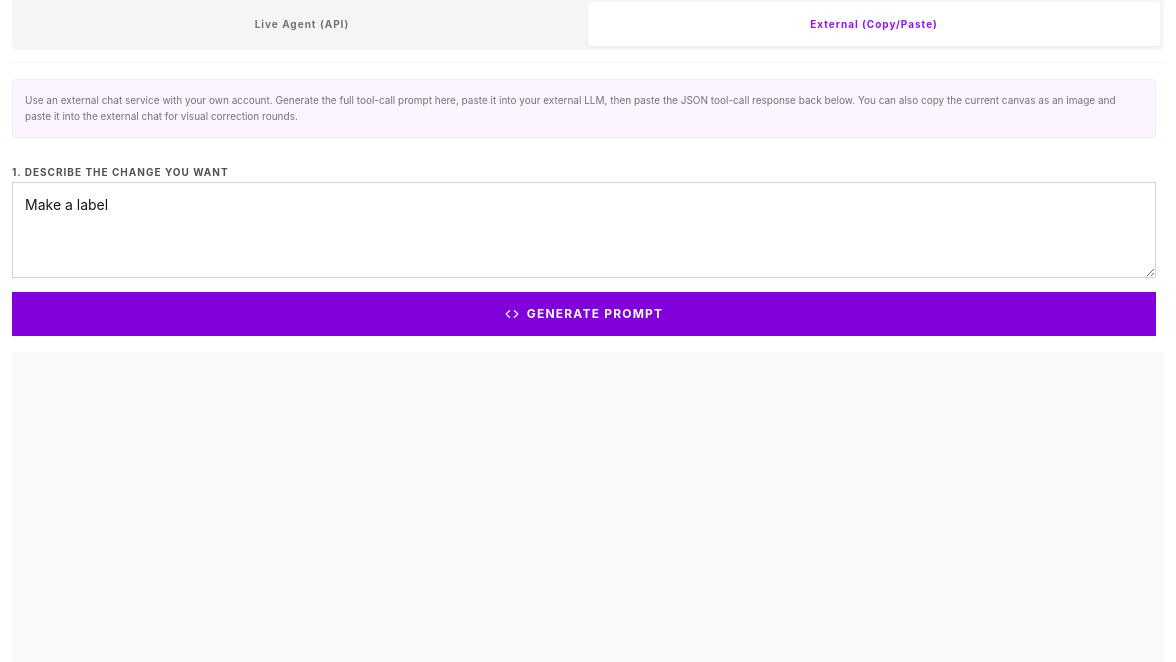
it: external prompts belong to the captured design and become unusable after an edit
The width and height of the screenshot is (1176, 662).
Click the button "Generate Prompt" at (584,314), box [12,292,1156,336]
(page scrolled)
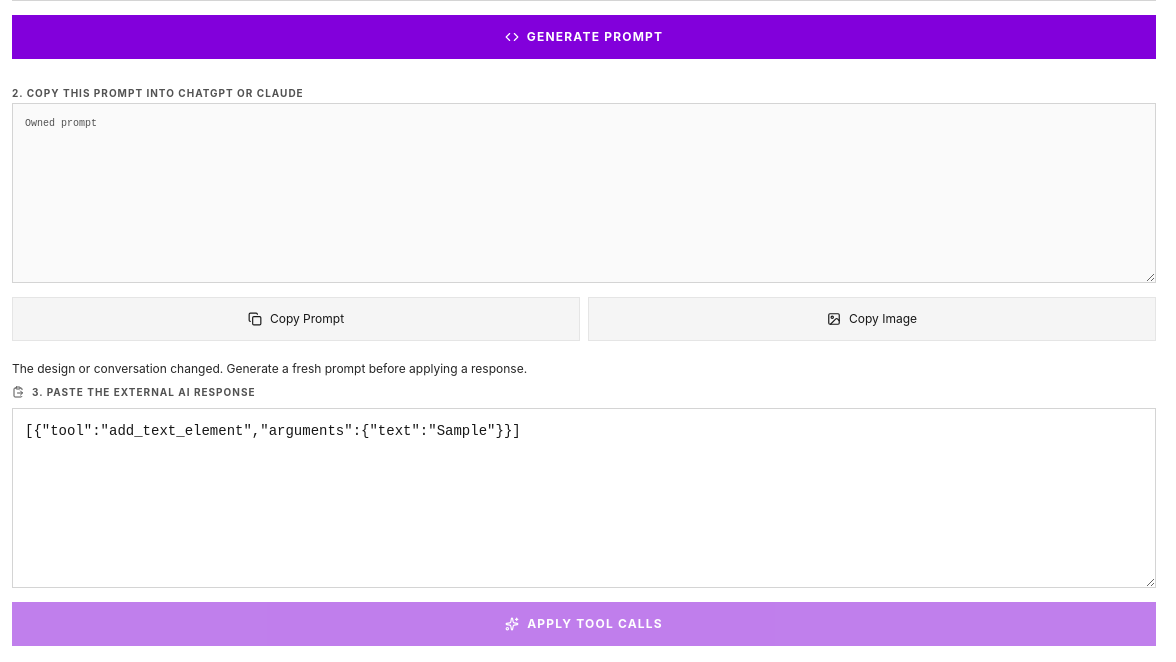
Now the button "Apply Tool Calls" is disabled, box [12,602,1156,646]
Now the text "Generate a fresh prompt" is shown, box [12,360,527,376]
